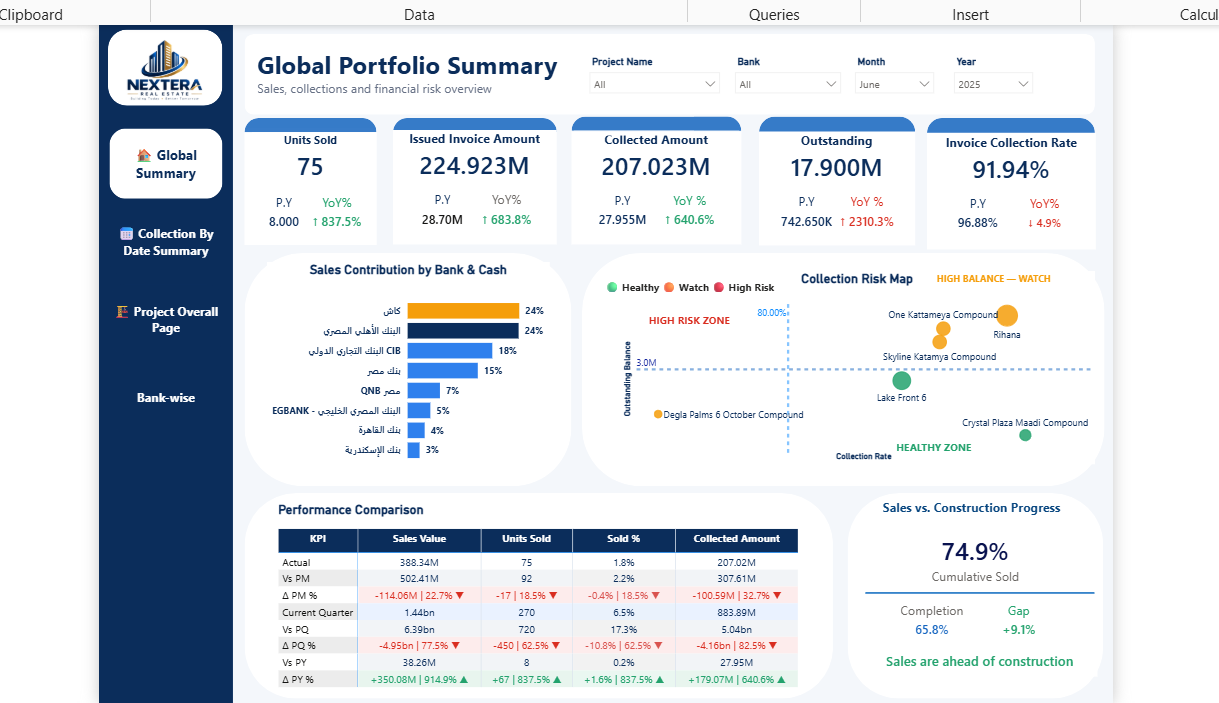

Layout of this report page (visuals, bound fields, positions):
{"tool":"powerbi","page":{"name":"🏠 Global Summary","canvas":[1330,890],"ordinal":0},"visuals":[{"type":"shape","box":[982.1,613.8,335.4,269.6],"z":0},{"type":"shape","box":[190.7,613.8,771.6,269.6],"z":1000},{"type":"shape","box":[632.4,299.2,685,305.8],"z":2000},{"type":"shape","box":[0,0,175.4,890],"z":3000},{"type":"pageNavigator","box":[13.6,136.2,148.8,400.7],"z":4000},{"type":"shape","box":[190.5,11.5,1114.8,105.7],"z":5000},{"type":"shape","box":[12.6,6.8,150,100],"z":6000},{"type":"image","box":[12.6,6.8,148.8,107],"z":7000},{"type":"textbox","box":[202.3,23.3,575.8,73.9],"z":8000},{"type":"slicer","fields":{"Values":["Dim Project.Project Name"]},"box":[632.2,36,190.6,55.4],"z":9000},{"type":"slicer","fields":{"Values":["Dim Bank.Bank"]},"box":[822.9,36,158.5,60.3],"z":10000},{"type":"slicer","fields":{"Values":["DimDate.Month Name"]},"box":[981.4,36,123.5,61.3],"z":11000},{"type":"slicer","fields":{"Values":["DimDate.Year"]},"box":[1111.7,36,123.5,61.3],"z":12000},{"type":"cardVisual","fields":{"Data":["Dax.# Sold"]},"box":[190.7,135.9,173.2,152.4],"z":13000},{"type":"shape","box":[190.7,121.7,173.2,18.6],"z":14000},{"type":"shape","box":[385.8,121.7,214.8,18.6],"z":15000},{"type":"shape","box":[619.3,120.6,222.5,18.6],"z":16000},{"type":"cardVisual","fields":{"Data":["Dax.Amount Collected"]},"box":[619.3,139.2,222.5,148],"z":17000},{"type":"shape","box":[865.9,119.5,205,20.8],"z":18000},{"type":"cardVisual","fields":{"Data":["Dax.Outstanding Balance"]},"box":[865.9,139.2,205,149.1],"z":19000},{"type":"shape","box":[1085.3,121.9,220.2,19.7],"z":20000},{"type":"scatterChart","title":"Collection Risk Map","fields":{"X":["Dax.Collection Rate"],"Y":["Dax.Outstanding Balance"],"Size":["Dax.Unit Price (Sold)"],"Category":["Dim Project.Project Name"]},"box":[683,321.1,623,253.2],"z":20000,"group":"g1"},{"type":"cardVisual","fields":{"Data":["Dax.Collection Rate"]},"box":[1085.3,141.6,221.4,152.4],"z":21000},{"type":"textbox","box":[658.7,328.4,232.7,36.7],"z":21000,"group":"g1"},{"type":"cardVisual","fields":{"Data":["Dax.Invoiced Amount"]},"box":[385.8,138.1,214.8,150.2],"z":22000},{"type":"textbox","box":[714.9,370.8,122.8,32.9],"z":22000,"group":"g1"},{"type":"group","id":"g1","title":"Group 1","box":[658.7,316,647.3,258.3],"z":23000},{"type":"textbox","box":[1094.1,316,176.5,29.6],"z":23000,"group":"g1"},{"type":"shape","box":[190.7,299.2,428.6,305.8],"z":24000},{"type":"textbox","box":[1040.3,537.2,116.8,33],"z":24001,"group":"g1"},{"type":"clusteredBarChart","title":"Sales Contribution by Bank & Cash","fields":{"Category":["Dim Bank.Bank"],"Y":["Dax.Bank Sales Contribution %"]},"box":[220.3,311.3,370.5,272.9],"z":25000},{"type":"pivotTable","title":"Performance Comparison","fields":{"Rows":["KPI Comparison Rows.KPI"],"Values":["Dax.Sales Value KPI Matrix","Dax.Units Sold KPI Matrix","Dax.Sold % KPI Matrix","Dax.Collected Amount KPI Matrix"]},"box":[230.2,625.8,692.7,249.9],"z":26000},{"type":"textbox","box":[1021.5,614.9,295.9,58.1],"z":27000},{"type":"cardVisual","fields":{"Data":["Dax.Outlook Sold %"]},"box":[999.6,646.7,300.3,179.8],"z":28000},{"type":"cardVisual","fields":{"Data":["Dax.Project Pace Status"]},"box":[1001.8,806.7,311.3,53.7],"z":29000},{"type":"shape","box":[1005.1,736.6,300.3,14.2],"z":30000}]}

Visuals, with their boxes on the page's 1330x890 design canvas (x1, y1, x2, y2). These are canvas units, not pixel positions in the 1219x703 screenshot, which may show the page scaled, cropped or inside an application window:
shape: crop(982, 614, 1318, 883)
shape: crop(191, 614, 962, 883)
shape: crop(632, 299, 1317, 605)
shape: crop(0, 0, 175, 890)
pageNavigator: crop(14, 136, 162, 537)
shape: crop(190, 12, 1305, 117)
shape: crop(13, 7, 163, 107)
image: crop(13, 7, 161, 114)
textbox: crop(202, 23, 778, 97)
slicer - Dim Project.Project Name: crop(632, 36, 823, 91)
slicer - Dim Bank.Bank: crop(823, 36, 981, 96)
slicer - DimDate.Month Name: crop(981, 36, 1105, 97)
slicer - DimDate.Year: crop(1112, 36, 1235, 97)
cardVisual - Dax.# Sold: crop(191, 136, 364, 288)
shape: crop(191, 122, 364, 140)
shape: crop(386, 122, 601, 140)
shape: crop(619, 121, 842, 139)
cardVisual - Dax.Amount Collected: crop(619, 139, 842, 287)
shape: crop(866, 120, 1071, 140)
cardVisual - Dax.Outstanding Balance: crop(866, 139, 1071, 288)
shape: crop(1085, 122, 1306, 142)
"Collection Risk Map" scatterChart: crop(683, 321, 1306, 574)
cardVisual - Dax.Collection Rate: crop(1085, 142, 1307, 294)
textbox: crop(659, 328, 891, 365)
cardVisual - Dax.Invoiced Amount: crop(386, 138, 601, 288)
textbox: crop(715, 371, 838, 404)
"Group 1" group: crop(659, 316, 1306, 574)
textbox: crop(1094, 316, 1271, 346)
shape: crop(191, 299, 619, 605)
textbox: crop(1040, 537, 1157, 570)
"Sales Contribution by Bank & Cash" clusteredBarChart: crop(220, 311, 591, 584)
"Performance Comparison" pivotTable: crop(230, 626, 923, 876)
textbox: crop(1022, 615, 1317, 673)
cardVisual - Dax.Outlook Sold %: crop(1000, 647, 1300, 826)
cardVisual - Dax.Project Pace Status: crop(1002, 807, 1313, 860)
shape: crop(1005, 737, 1305, 751)
